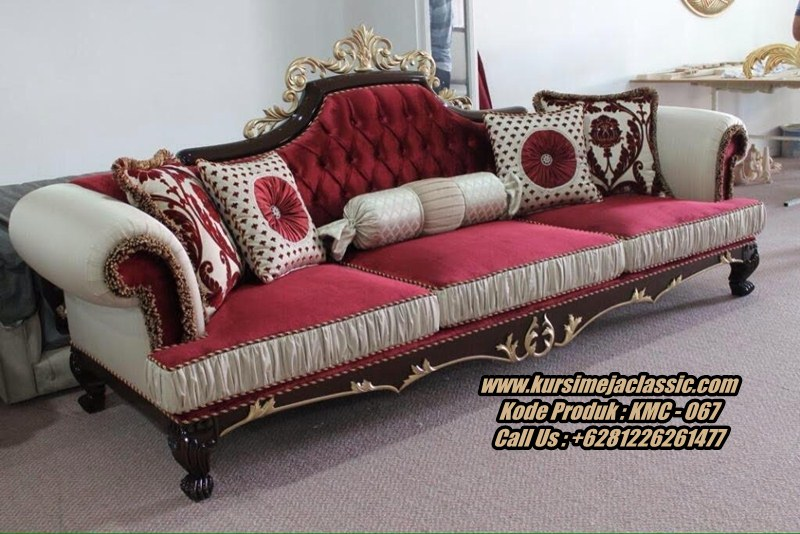Carving Chair: (32, 100, 760, 366)
